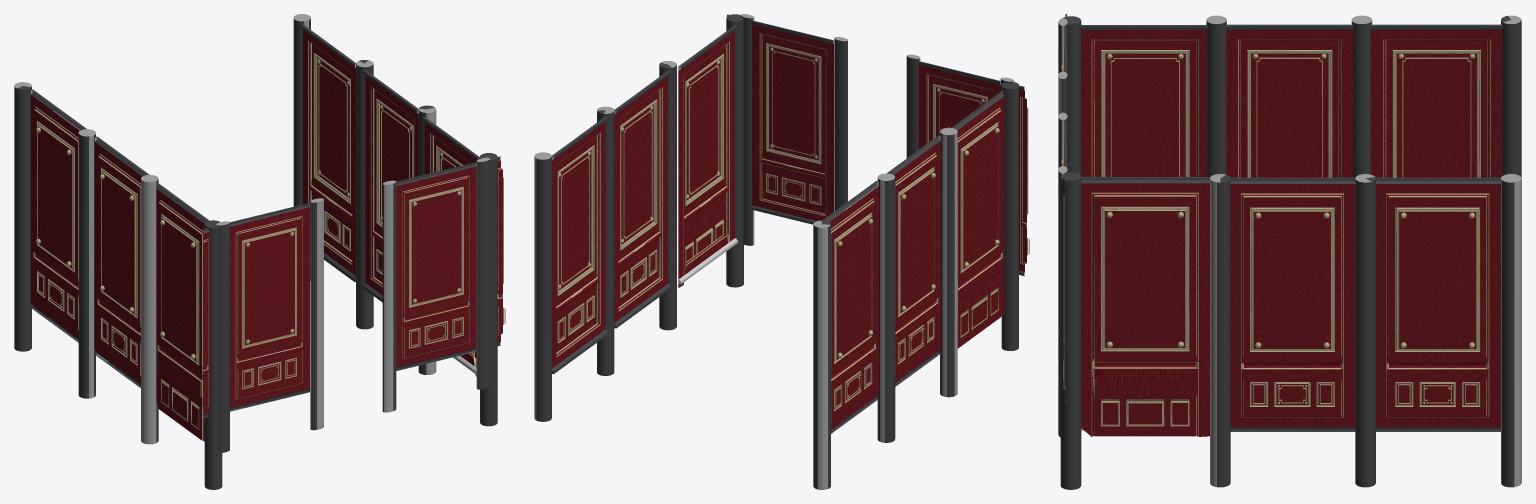
The model's file is WallPanels.fbx.
3 views of the same model, side by side, from view 1: azimuth 30°, elevation 25°; view 2: azimuth 150°, elevation 25°; view 3: azimuth 270°, elevation 25° (orthographic). The views are drawn at different scales.
Parts seen in each view (by area): view 1: Wall1_WallPannel3_pCube65, Wall1_WallPannel3_pCube67, WallPannel6_pSphere2, pCylinder148, pCylinder147, WallPannel6_pSphere1; view 2: Wall1_WallPannel3_pCube65, Wall1_WallPannel3_pCube67, WallPannel6_pSphere1, WallPannel6_pSphere2, pCylinder148, pCylinder147; view 3: Wall1_WallPannel3_pCube65, WallPannel6_pSphere1, WallPannel6_pSphere2, pCylinder147, Wall1_WallPannel3_pCube67, pCylinder148.
Boxes of the visible parts, x1,y1,x2,y2 form: Wall1_WallPannel3_pCube65: (14, 14, 436, 444); Wall1_WallPannel3_pCube67: (200, 156, 505, 452); WallPannel6_pSphere2: (156, 183, 209, 441); pCylinder148: (204, 220, 222, 489); pCylinder147: (480, 153, 497, 426); WallPannel6_pSphere1: (422, 117, 479, 376); Wall1_WallPannel3_pCube65: (534, 61, 957, 489); Wall1_WallPannel3_pCube67: (727, 14, 1029, 276); WallPannel6_pSphere1: (678, 25, 737, 287); WallPannel6_pSphere2: (951, 90, 1004, 348); pCylinder148: (1001, 82, 1018, 350); pCylinder147: (726, 14, 743, 287); Wall1_WallPannel3_pCube65: (1206, 15, 1521, 487); WallPannel6_pSphere1: (1081, 177, 1210, 436); WallPannel6_pSphere2: (1079, 25, 1208, 176); pCylinder147: (1060, 172, 1081, 489); Wall1_WallPannel3_pCube67: (1058, 14, 1067, 437); pCylinder148: (1062, 16, 1081, 174).
Size of the model in its own units: 6.03 by 5.05 by 6.82.
